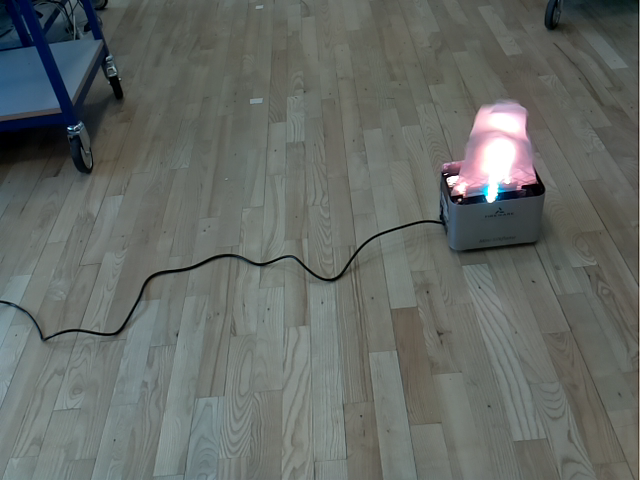fire: (446, 97, 541, 199)
